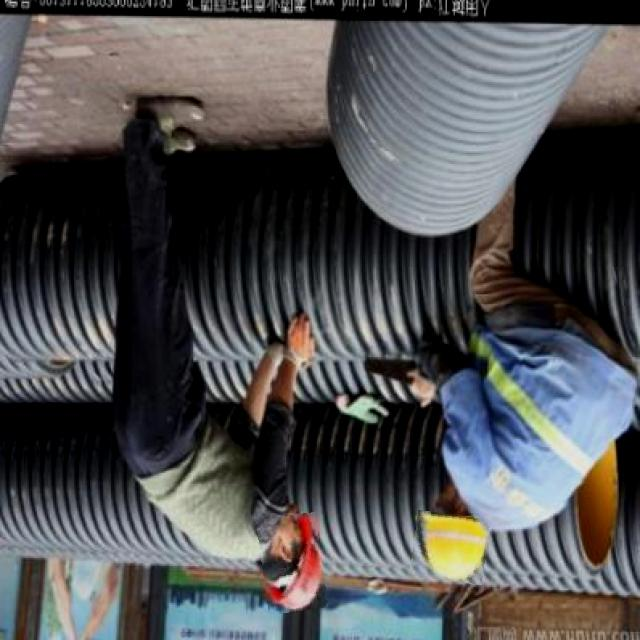helmet: (259, 513, 325, 613), (411, 512, 488, 583)
